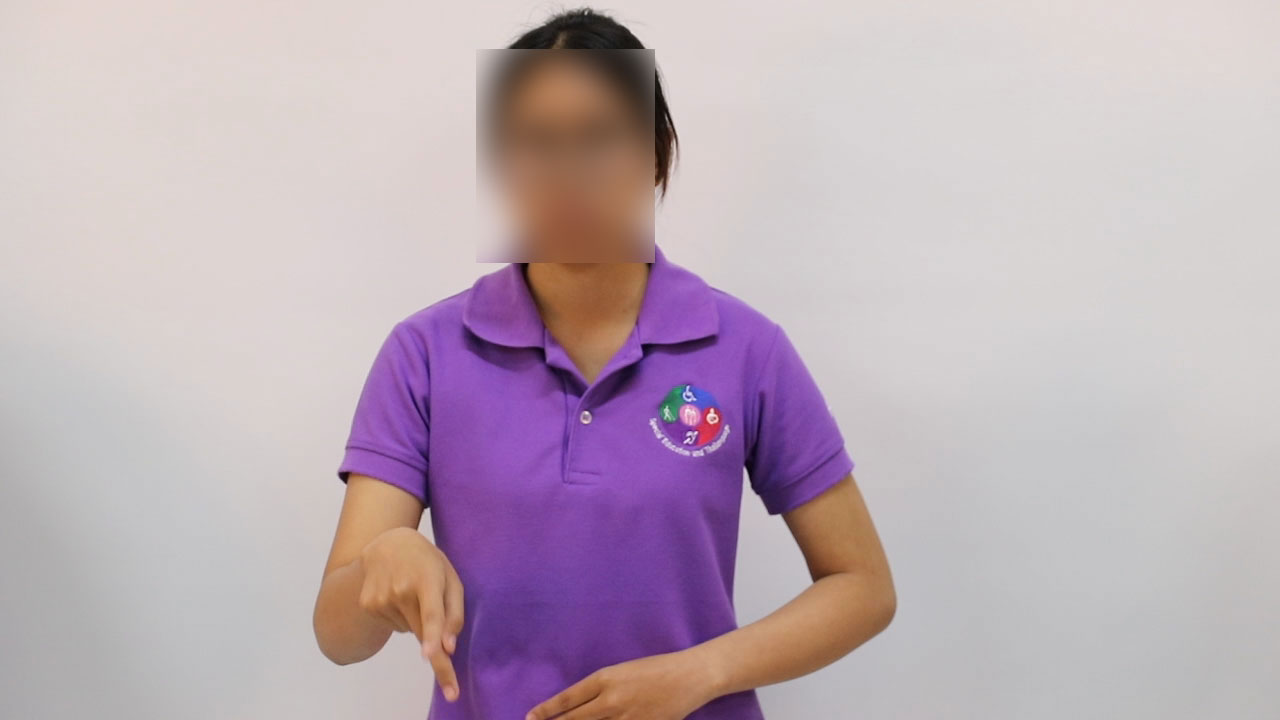por: (349, 521, 483, 710)
